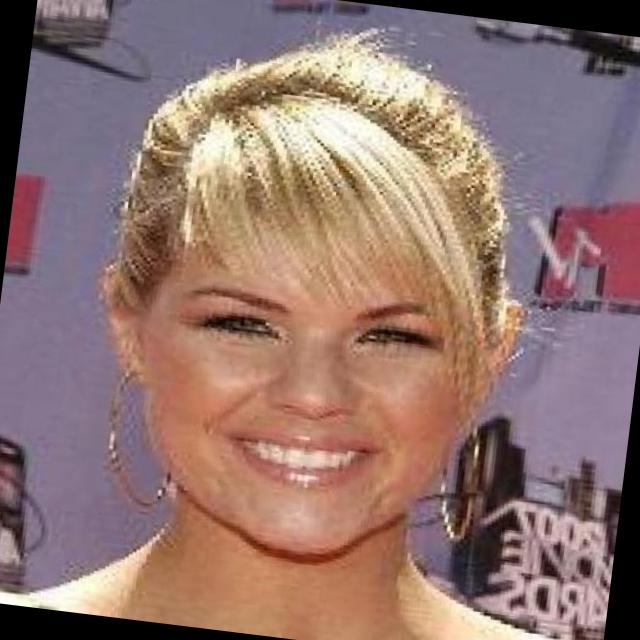bareface: (154, 109, 481, 540)
